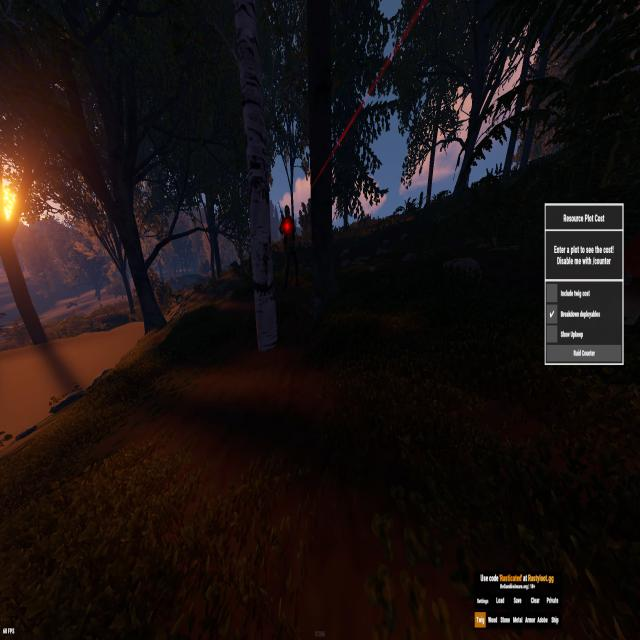Player: (280, 204, 298, 288)
